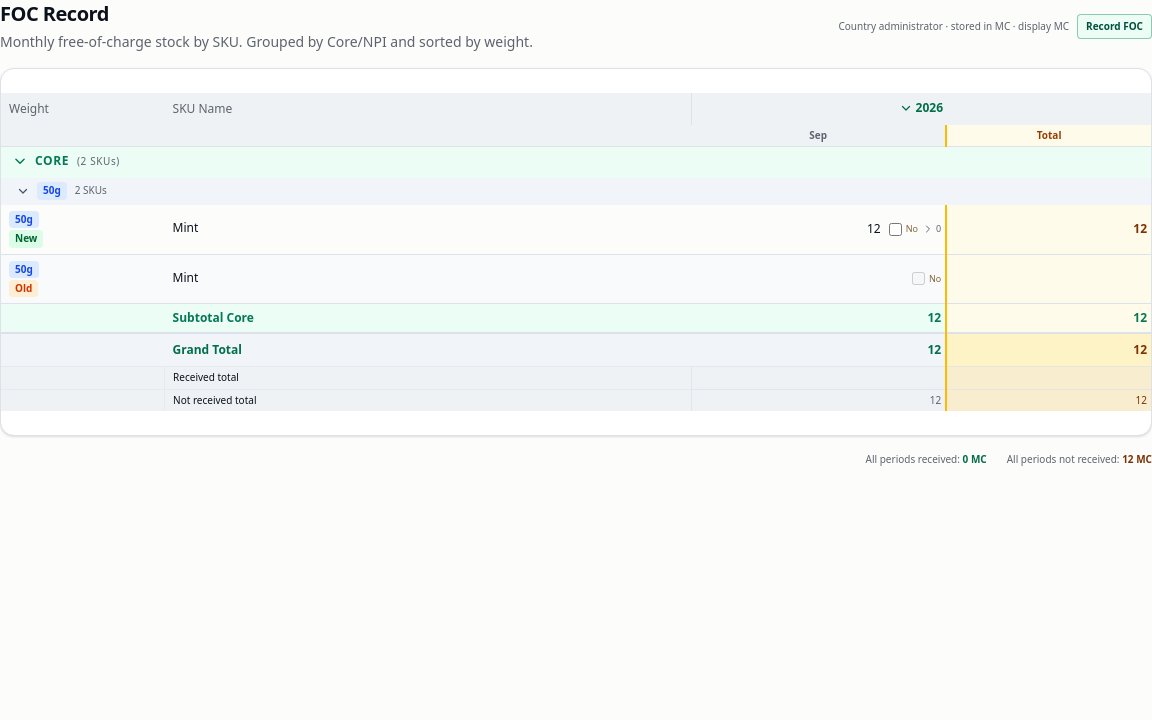
Test case: separate FOC Record › previews and confirms displayed MC edits as MC, never writing paid data
The image size is (1152, 720).
Later steps or results of the test are not shown.
Click the button "12" at (874, 229), box top-left (863, 221), bottom-right (885, 237)
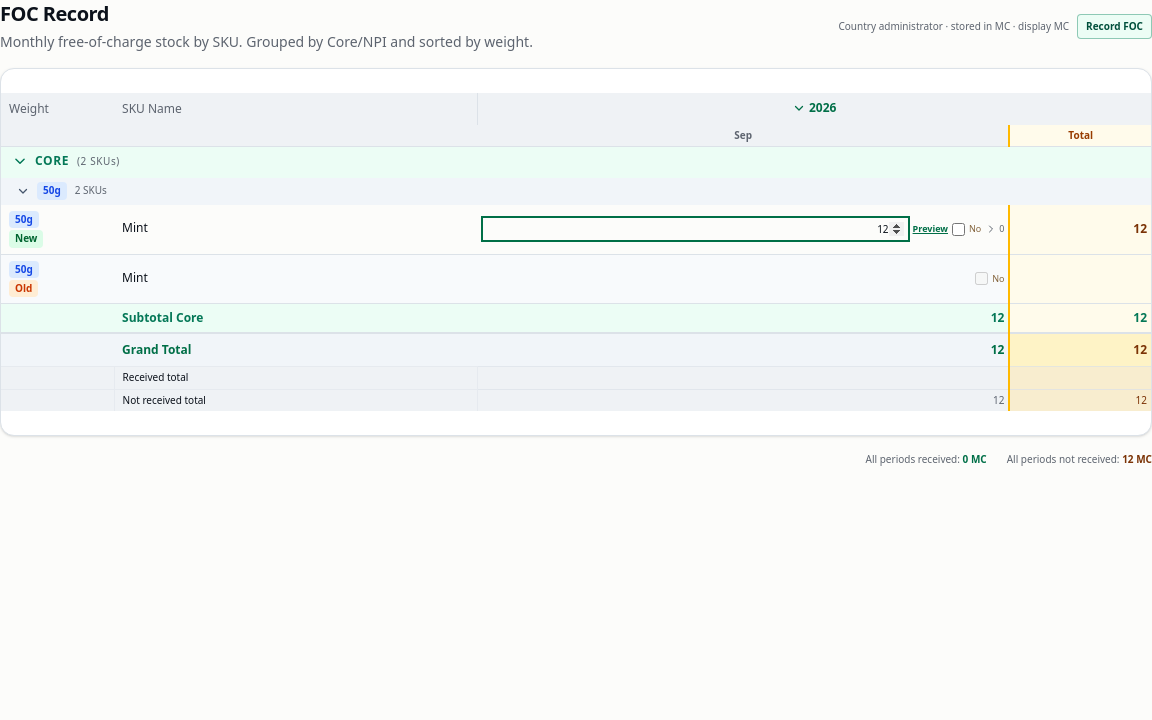
Replace the text in the number field with "20" at (695, 229), box top-left (482, 217), bottom-right (909, 241)
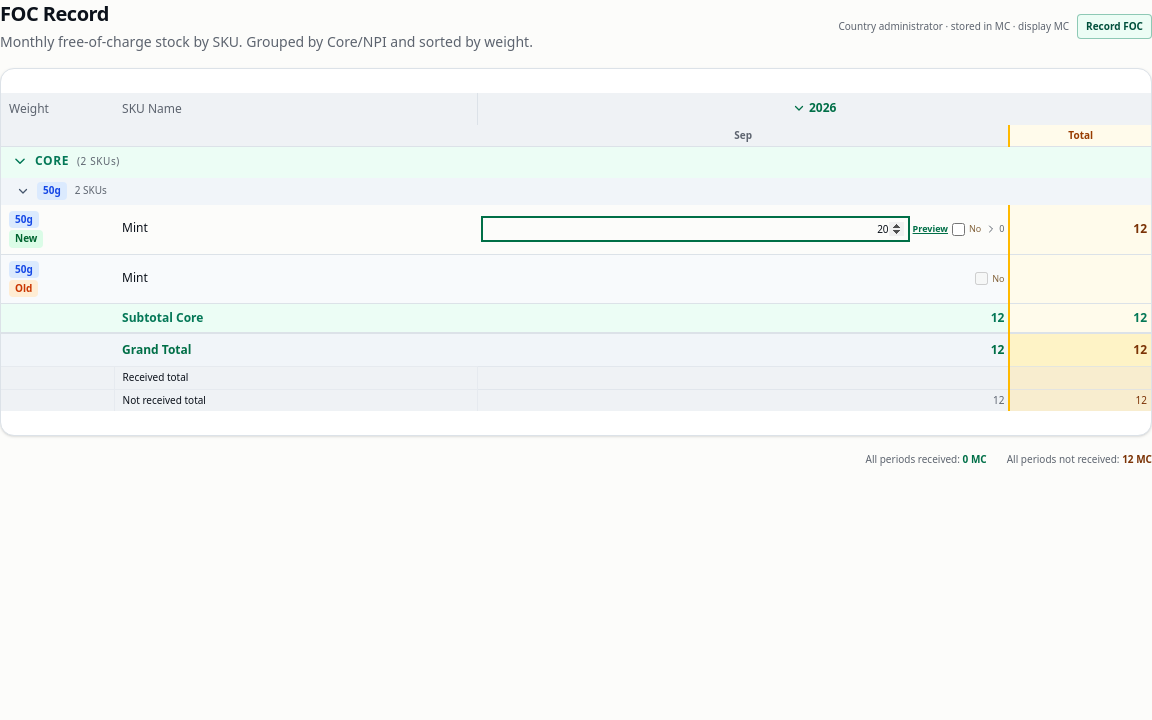
Press Enter in the number field, box top-left (482, 217), bottom-right (909, 241)
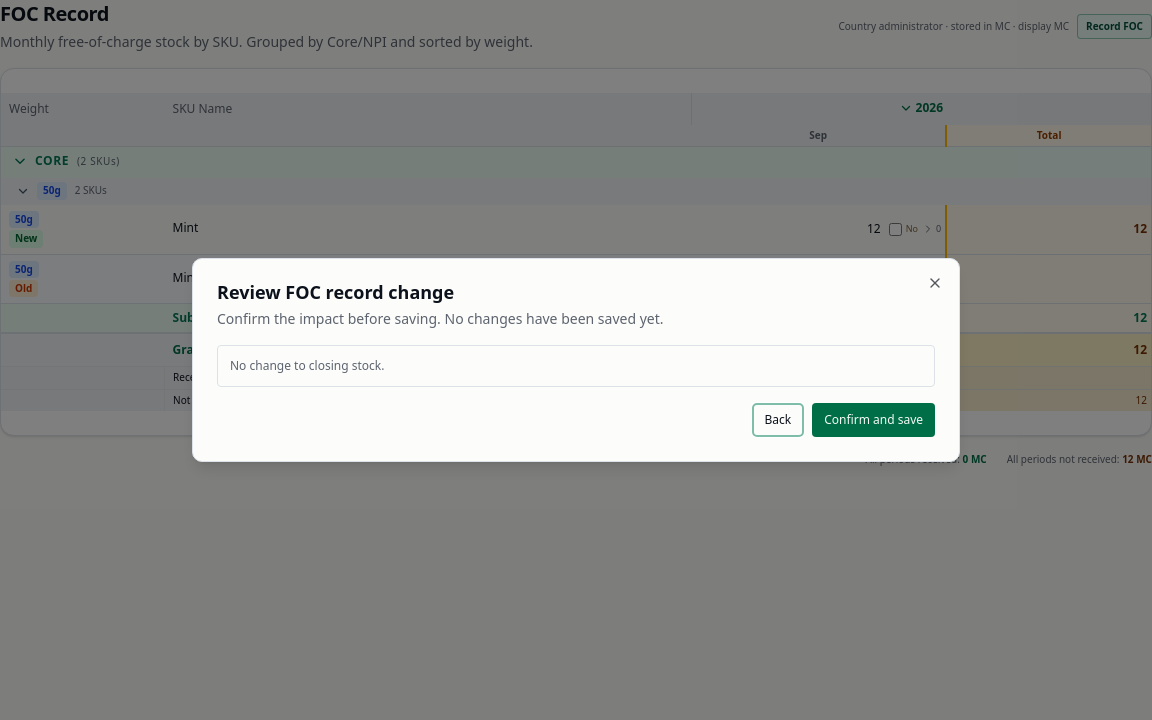
Now the button "Confirm and save" is shown, box top-left (812, 403), bottom-right (935, 437)
